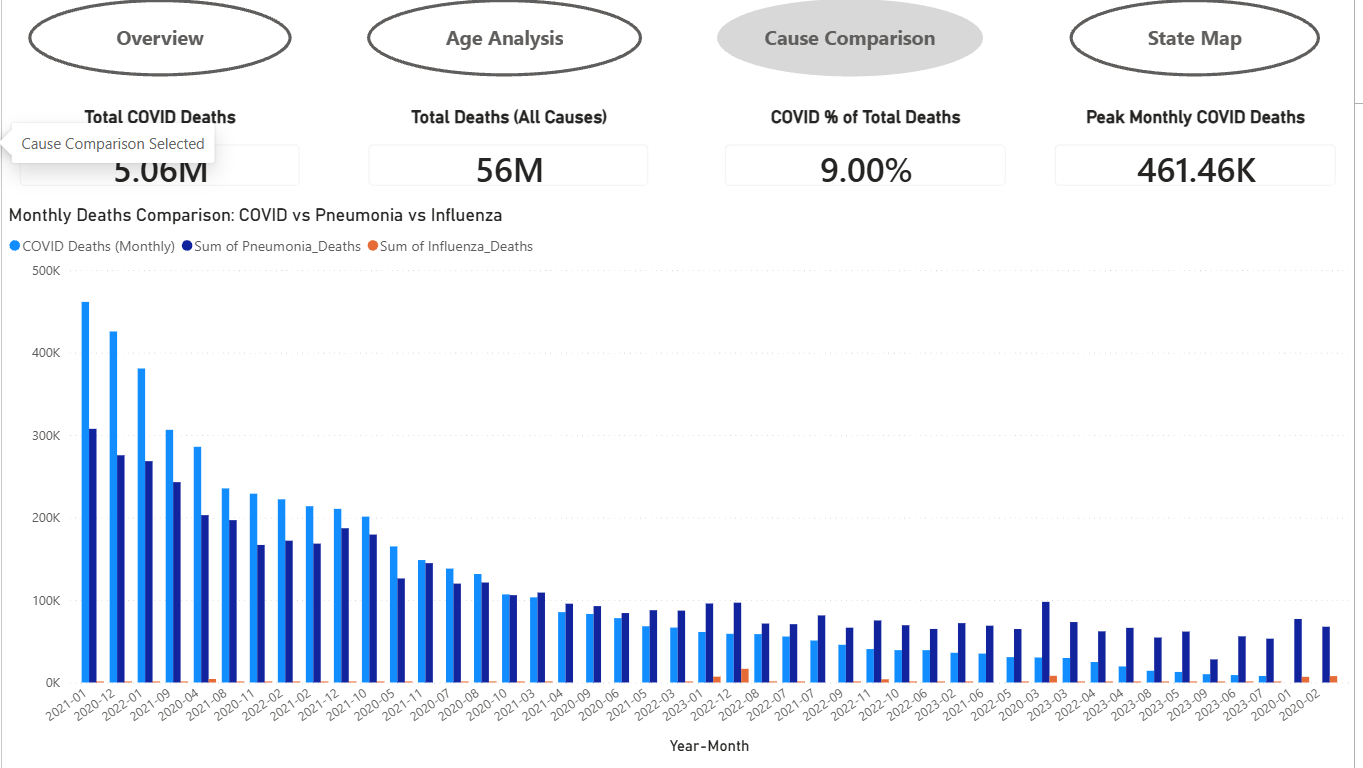

This screenshot's page, from the dashboard's own definition file:
{"tool":"powerbi","page":{"name":"Cause Comparison","canvas":[1280,720],"ordinal":2},"visuals":[{"type":"cardVisual","title":"Total COVID Deaths","fields":{"Data":["Covid_Death.Total COVID Deaths"]},"box":[0,101.5,299.6,92.9],"z":0},{"type":"cardVisual","title":"Total Deaths (All Causes)","fields":{"Data":["Covid_Death.Total Deaths"]},"box":[330.2,101.5,299.6,92.9],"z":1000},{"type":"cardVisual","title":"COVID % of Total Deaths","fields":{"Data":["Covid_Death.COVID Share of Total Deaths"]},"box":[667.7,101.5,300.8,92.9],"z":2000},{"type":"cardVisual","title":"Peak Monthly COVID Deaths","fields":{"Data":["Covid_Death.Peak Monthly COVID Deaths"]},"box":[979.5,101.5,300.8,92.9],"z":3000},{"type":"clusteredColumnChart","title":"Monthly Deaths Comparison: COVID vs Pneumonia vs Influenza","fields":{"Category":["Date_Table.Year-Month"],"Y":["Covid_Death.COVID Deaths (Monthly)","Sum(Covid_Death.Pneumonia_Deaths)","Sum(Covid_Death.Influenza_Deaths)"]},"box":[1.2,194.4,1279.1,525.8],"z":4000},{"type":"actionButton","title":"Age Analysis","box":[346.1,0,260.5,73.4],"z":5000},{"type":"actionButton","title":"Cause Comparison","box":[677.4,0,251.9,73.4],"z":6000},{"type":"actionButton","title":"State Map","box":[1011.3,0,237.2,73.4],"z":7000},{"type":"actionButton","title":"Overview","box":[24.5,0,249.5,73.4],"z":8000}]}

Visuals, with their boxes on the page's 1280x720 design canvas (x1, y1, x2, y2). These are canvas units, not pixel positions in the 1363x768 screenshot, which may show the page scaled, cropped or inside an application window:
"Total COVID Deaths" cardVisual: {"left": 0, "top": 102, "right": 300, "bottom": 194}
"Total Deaths (All Causes)" cardVisual: {"left": 330, "top": 102, "right": 630, "bottom": 194}
"COVID % of Total Deaths" cardVisual: {"left": 668, "top": 102, "right": 968, "bottom": 194}
"Peak Monthly COVID Deaths" cardVisual: {"left": 980, "top": 102, "right": 1280, "bottom": 194}
"Monthly Deaths Comparison: COVID vs Pneumonia vs Influenza" clusteredColumnChart: {"left": 1, "top": 194, "right": 1280, "bottom": 720}
"Age Analysis" actionButton: {"left": 346, "top": 0, "right": 607, "bottom": 73}
"Cause Comparison" actionButton: {"left": 677, "top": 0, "right": 929, "bottom": 73}
"State Map" actionButton: {"left": 1011, "top": 0, "right": 1248, "bottom": 73}
"Overview" actionButton: {"left": 24, "top": 0, "right": 274, "bottom": 73}
